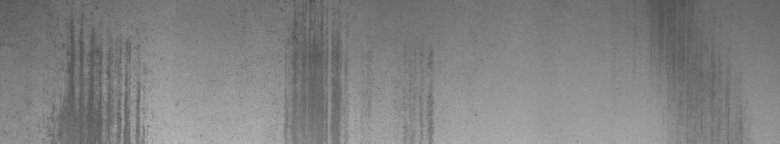ka: (304, 24, 344, 136)
